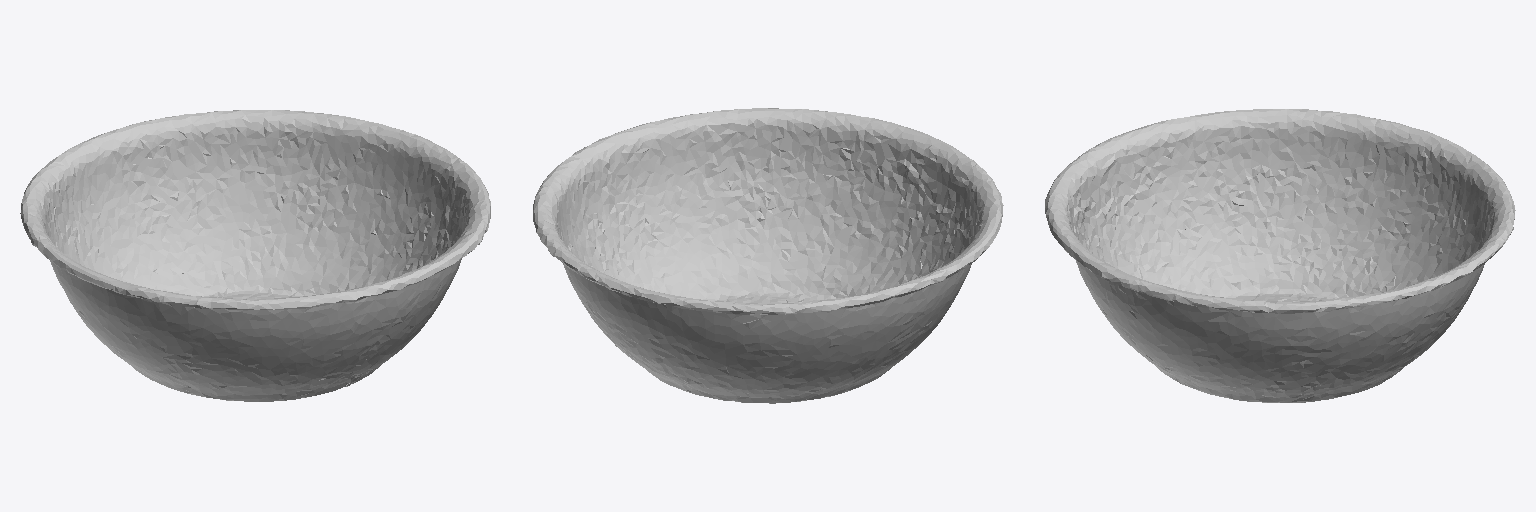
The robot description file, URDF, robot "ycb_bowl_mod":
<robot name="ycb_bowl_mod">
    <link concave='yes' name="link_object">
        <visual>
            <origin rpy="0 0 0" xyz="0.00000 0.00000 0.00000" />
            <geometry>
                <mesh filename="mesh/bowl/ycb_bowl.obj" />
            </geometry>
            <material name='grey'/>
        </visual>
        <collision>
            <origin rpy="0 0 0" xyz="0.00000 0.00000 0.00000" />
            <geometry>
                <mesh filename="mesh/bowl/ycb_bowl.obj" />
            </geometry>
        </collision>
        <inertial>
            <origin rpy="0 0 0" xyz="0 0 0" />
            <mass value="0.150" />
            <inertia ixx="0" ixy="0" ixz="0" iyy="0" iyz="0" izz="0" />
        </inertial>
    </link>

    <material name='grey'>
        <color rgba=".8 .8 .8 1.0"/>
    </material>
</robot>

--- What the picture shows (computed from the rendered views, not written in the file) ---
3 views of the same robot in one strip: view 1: azimuth 30°, elevation 25°; view 2: azimuth 150°, elevation 25°; view 3: azimuth 270°, elevation 25° (orthographic).
Model ycb_bowl_mod with 1 links and 0 joints (none), rooted at link_object, posed every joint at zero.
Links seen in each view (by area): view 1: link_object; view 2: link_object; view 3: link_object.
Boxes of the visible links, box(x1,y1,x2,y2) form: link_object: box(20, 110, 490, 401); link_object: box(533, 108, 1003, 403); link_object: box(1045, 109, 1515, 402).
Bounding box of the posed robot: 0.1615 × 0.1612 × 0.055 m (x, y, z).
1 mesh visuals loaded from 1 distinct referenced files (1 OBJ).